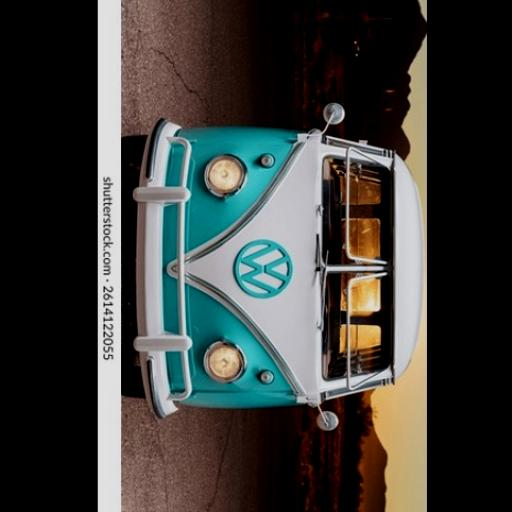van: (122, 102, 424, 430)
